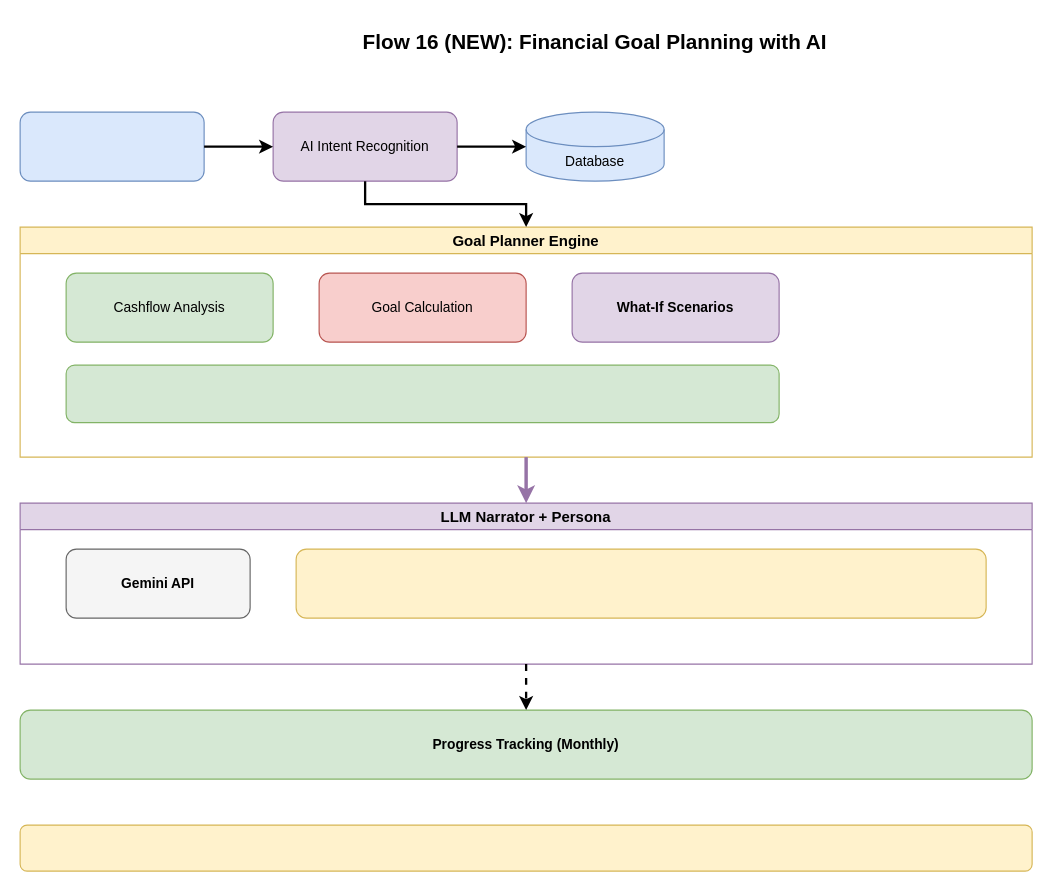
Some shapes in this 1052 by 891 pixel diagram are drawn without their labels. Here are the shapes that lost their labels. From the top down, the centre of each, then its label:
At (x=111, y=146): "User Input".
At (x=422, y=393): "Structured Plan (JSON)".
At (x=640, y=583): "Persona Outputs".
At (x=525, y=847): "Math engine calculates scenarios, LLM creates motivational roadmap".
